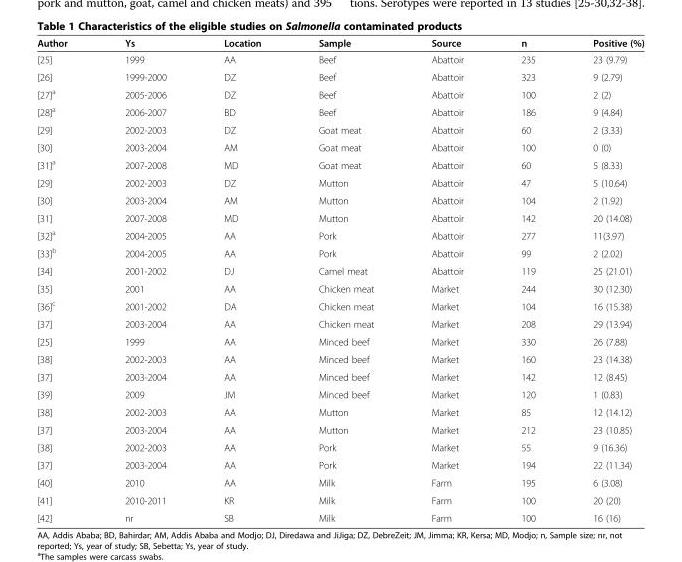table: (36, 36, 643, 523)
table column: (289, 36, 402, 523), (95, 36, 194, 523), (194, 36, 289, 523), (402, 36, 491, 523), (563, 36, 643, 523), (491, 36, 563, 523), (36, 36, 95, 523)
table column header: (36, 36, 643, 50)
table row: (36, 84, 643, 102), (36, 102, 643, 120), (36, 120, 643, 138), (36, 155, 643, 173), (36, 173, 643, 191), (36, 191, 643, 209), (36, 225, 643, 243), (36, 243, 643, 261), (36, 261, 643, 279), (36, 296, 643, 314), (36, 314, 643, 332), (36, 332, 643, 350), (36, 367, 643, 385), (36, 385, 643, 403), (36, 420, 643, 438), (36, 455, 643, 473), (36, 473, 643, 491), (36, 50, 643, 67), (36, 67, 643, 84), (36, 138, 643, 155), (36, 279, 643, 296), (36, 350, 643, 367), (36, 403, 643, 420), (36, 438, 643, 455), (36, 491, 643, 508), (36, 209, 643, 225), (36, 508, 643, 523), (36, 36, 643, 50)
